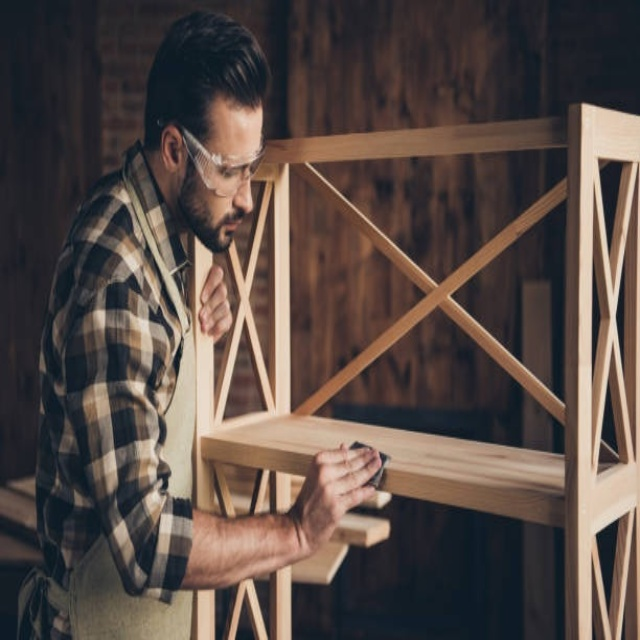Gafas: (164, 119, 266, 195)
Sin_guantes: (290, 440, 384, 547), (197, 261, 233, 343)
Sin_mascara: (209, 210, 248, 246)
